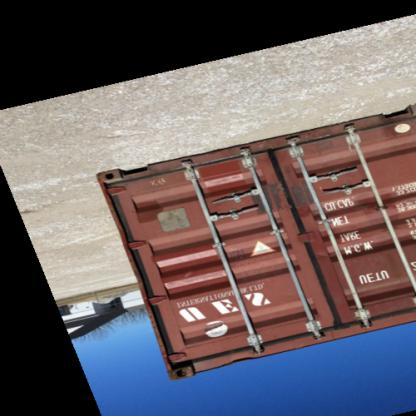Damage: (247, 182, 317, 216), (218, 345, 255, 369), (192, 314, 226, 336), (164, 362, 196, 382), (144, 176, 168, 194), (312, 250, 328, 270)
